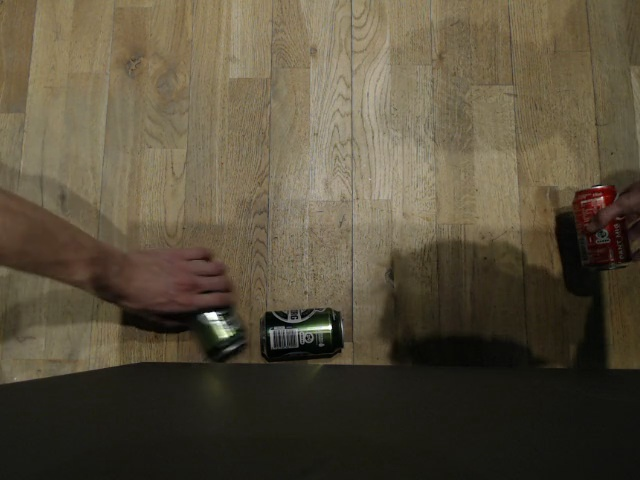beer: (258, 305, 347, 360), (190, 307, 246, 358)
cola: (570, 183, 632, 269)
